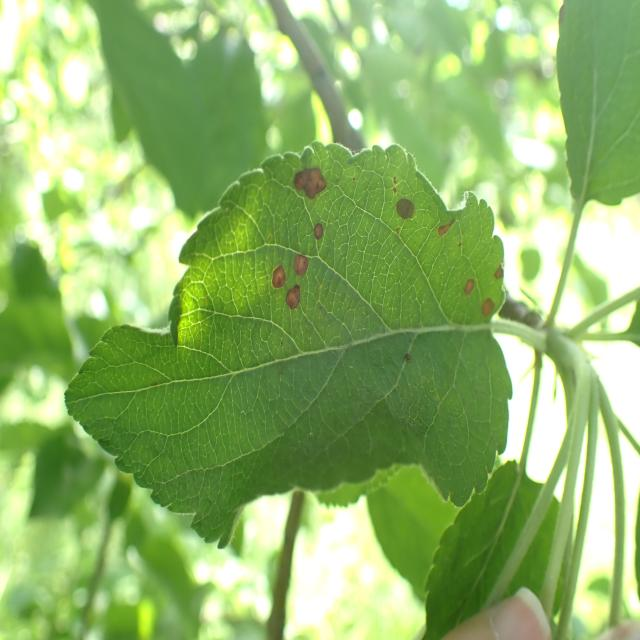Black Rot: (284, 137, 335, 211), (290, 234, 318, 290), (280, 285, 316, 327), (392, 184, 419, 238), (464, 296, 508, 324), (445, 271, 483, 303), (309, 212, 335, 256), (484, 256, 511, 296), (261, 259, 289, 293), (438, 212, 462, 250)
